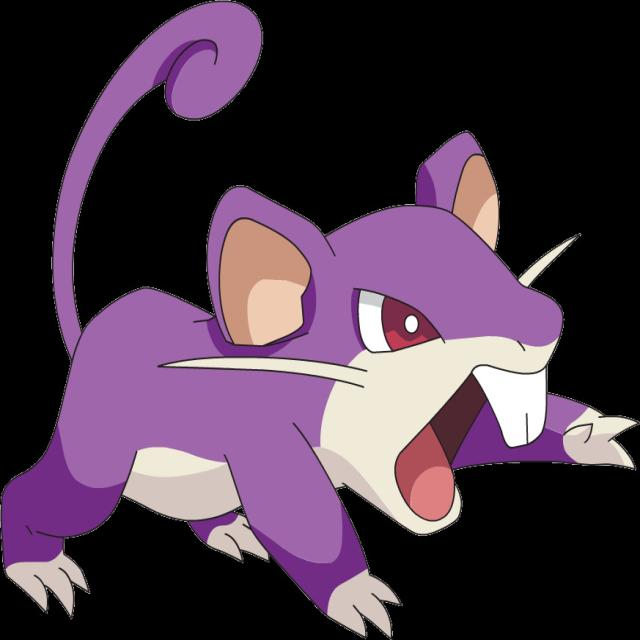Rattata: (33, 145, 561, 558)
